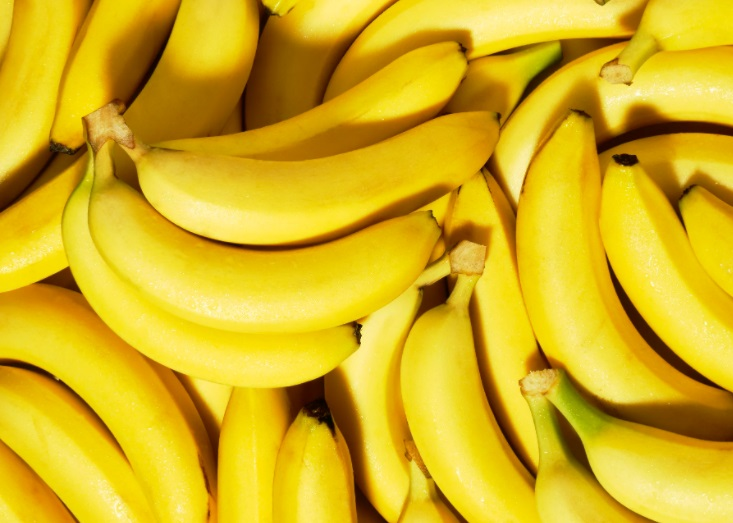Yellow: (7, 6, 724, 518)
